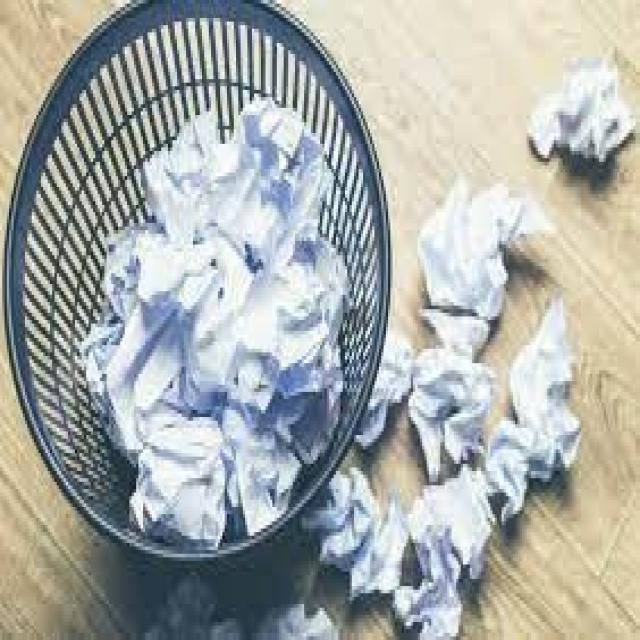Paper -Biodegradable-: (83, 109, 341, 552), (396, 295, 585, 637), (420, 172, 536, 317), (305, 463, 413, 605), (405, 343, 488, 500), (525, 61, 633, 162), (355, 333, 416, 454), (255, 603, 336, 640)
